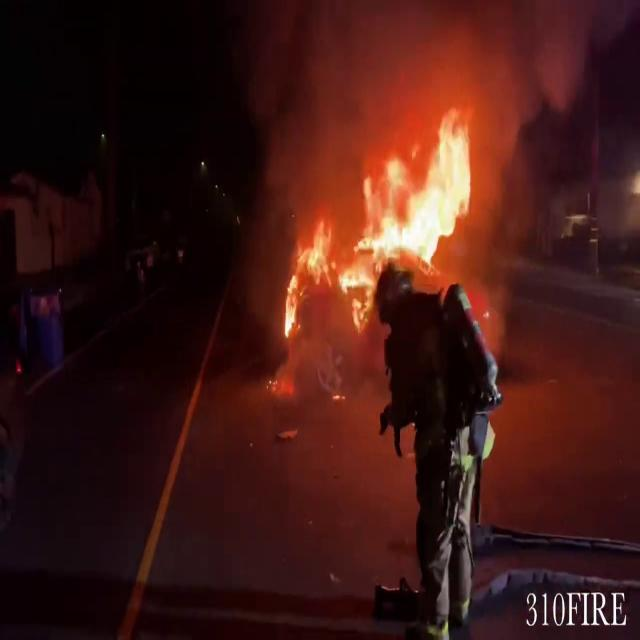Fire: (281, 100, 485, 370)
Smoke: (234, 0, 614, 148)
